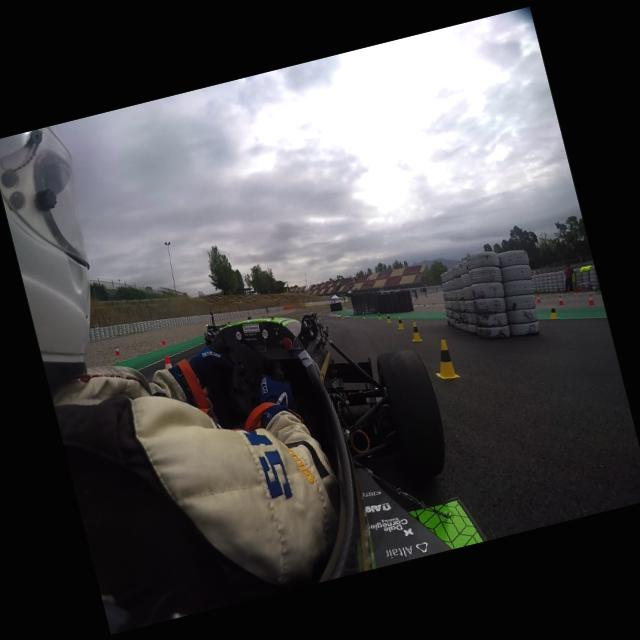orange_cone: (585, 293, 595, 307), (162, 355, 172, 368), (556, 294, 564, 306), (112, 344, 120, 356), (534, 294, 540, 302)
yellow_cone: (426, 337, 459, 382), (406, 319, 423, 345), (546, 302, 558, 320), (394, 316, 404, 330), (384, 314, 390, 322), (376, 312, 381, 319), (339, 313, 344, 319), (316, 314, 321, 319), (361, 312, 365, 318)
